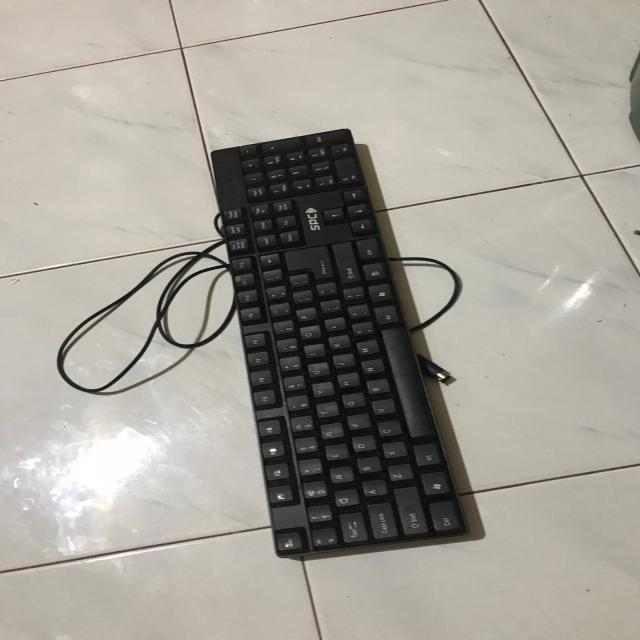-mouse-: (206, 129, 472, 555)
